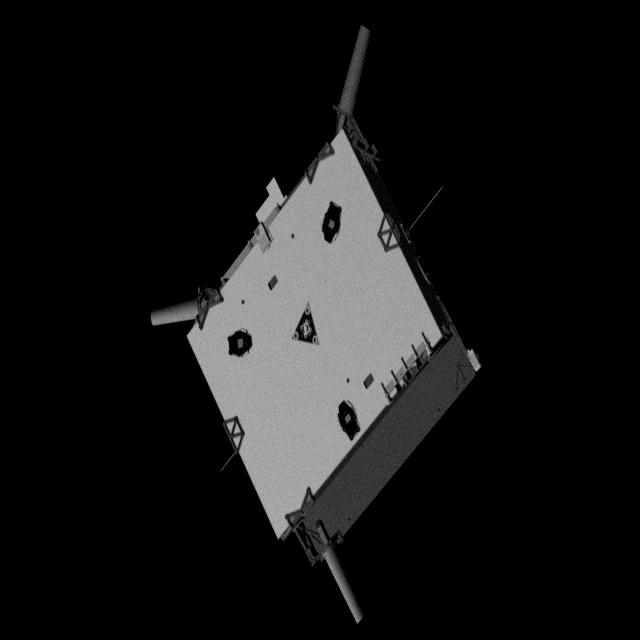satellite: (146, 22, 484, 626)
